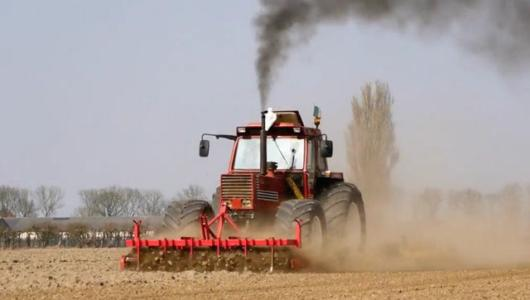smoke: (243, 1, 382, 105)
